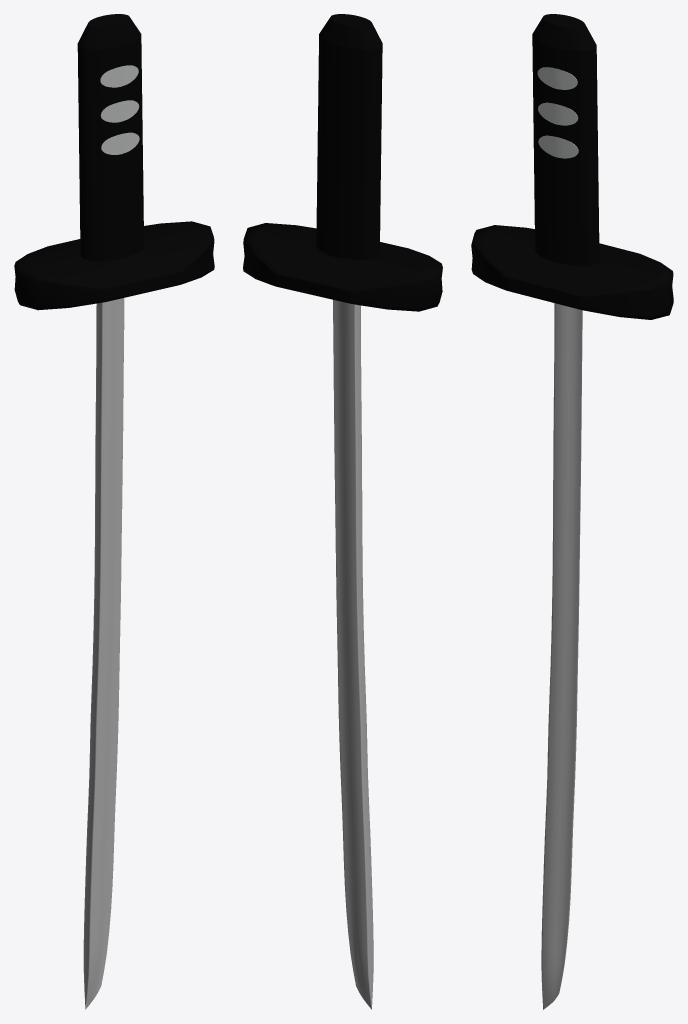
File: Knife.fbx
3 views of the same model, side by side, from view 1: azimuth 30°, elevation 25°; view 2: azimuth 150°, elevation 25°; view 3: azimuth 330°, elevation 25° (orthographic).
Parts seen in each view (by area): view 1: Plane002; view 2: Plane002; view 3: Plane002.
Part boxes in pixels (box(x1,y1,x2,y2)): Plane002: box(14, 14, 214, 1009); Plane002: box(243, 14, 442, 1009); Plane002: box(471, 14, 673, 1009).
Size of the model in its own units: 16.27 by 78.63 by 8.39.
3 materials, 3 textured.
